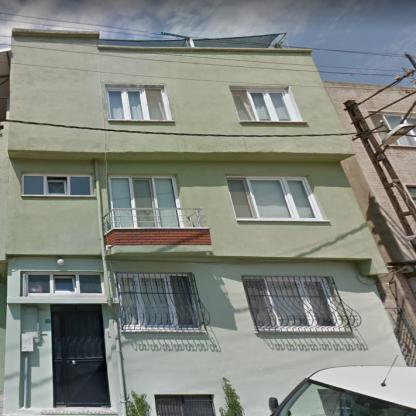door: (51, 303, 111, 408)
window: (244, 276, 344, 330), (116, 272, 200, 330), (226, 176, 321, 219), (108, 176, 185, 228), (231, 87, 303, 122), (106, 86, 171, 122), (20, 272, 104, 296), (21, 172, 92, 196), (156, 395, 214, 415)
